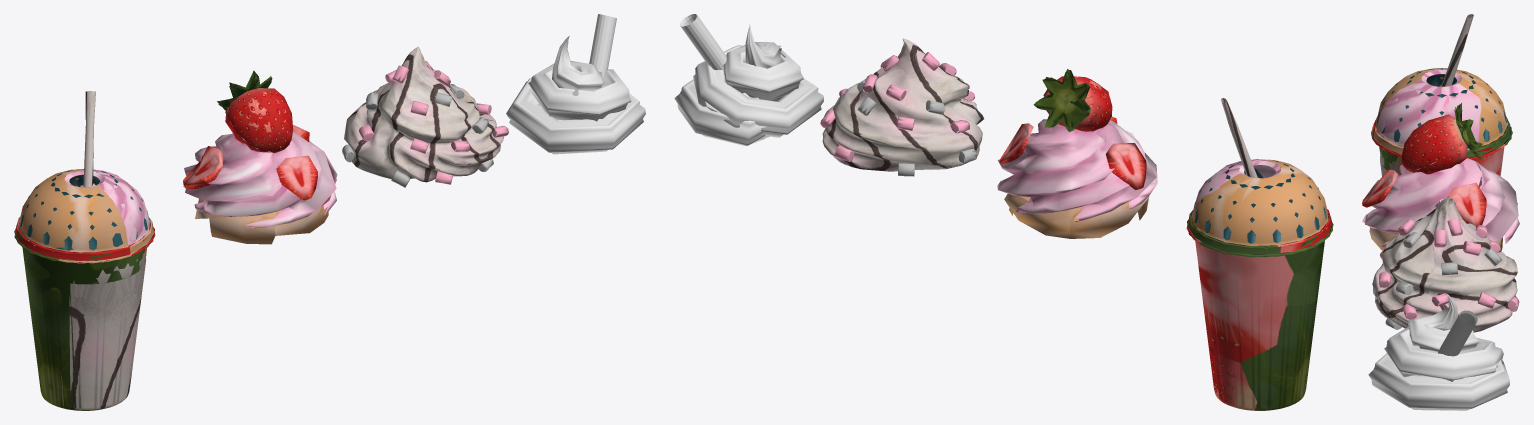
Rendered from K+Âp+-kler.fbx.
3 views of the same model, side by side, from view 1: azimuth 30°, elevation 25°; view 2: azimuth 150°, elevation 25°; view 3: azimuth 270°, elevation 25° (orthographic). The views are drawn at different scales.
Parts seen in each view (by area): view 1: çilek, krema2, trans kapak, krema, içi, trans bardak, parçacık, pipe, pipe.001; view 2: çilek, trans bardak, krema2, trans kapak, krema, parçacık, pipe, pipe.001; view 3: çilek, krema2, krema, trans kapak, parçacık, pipe, trans bardak, pipe.001, içi.
Boxes of the visible parts, bbox=[...] form: çilek: bbox=[183, 70, 337, 244]; krema2: bbox=[344, 46, 503, 182]; trans kapak: bbox=[14, 169, 155, 263]; krema: bbox=[506, 35, 645, 154]; içi: bbox=[61, 183, 145, 409]; trans bardak: bbox=[17, 224, 147, 410]; parçacık: bbox=[342, 60, 508, 187]; pipe: bbox=[589, 14, 616, 76]; pipe.001: bbox=[83, 91, 95, 187]; çilek: bbox=[997, 69, 1157, 238]; trans bardak: bbox=[1189, 217, 1330, 410]; krema2: bbox=[822, 38, 984, 171]; trans kapak: bbox=[1186, 159, 1333, 257]; krema: bbox=[674, 24, 823, 146]; parçacık: bbox=[820, 52, 976, 176]; pipe: bbox=[680, 14, 726, 74]; pipe.001: bbox=[1221, 98, 1257, 178]; çilek: bbox=[1362, 103, 1519, 251]; krema2: bbox=[1372, 197, 1517, 332]; krema: bbox=[1368, 294, 1509, 410]; trans kapak: bbox=[1371, 68, 1512, 159]; parçacık: bbox=[1375, 199, 1519, 329]; pipe: bbox=[1438, 310, 1477, 356]; trans bardak: bbox=[1375, 120, 1508, 176]; pipe.001: bbox=[1441, 14, 1473, 86]; içi: bbox=[1379, 150, 1399, 176].
Size of the model in its own units: 1682 by 758 by 377.
